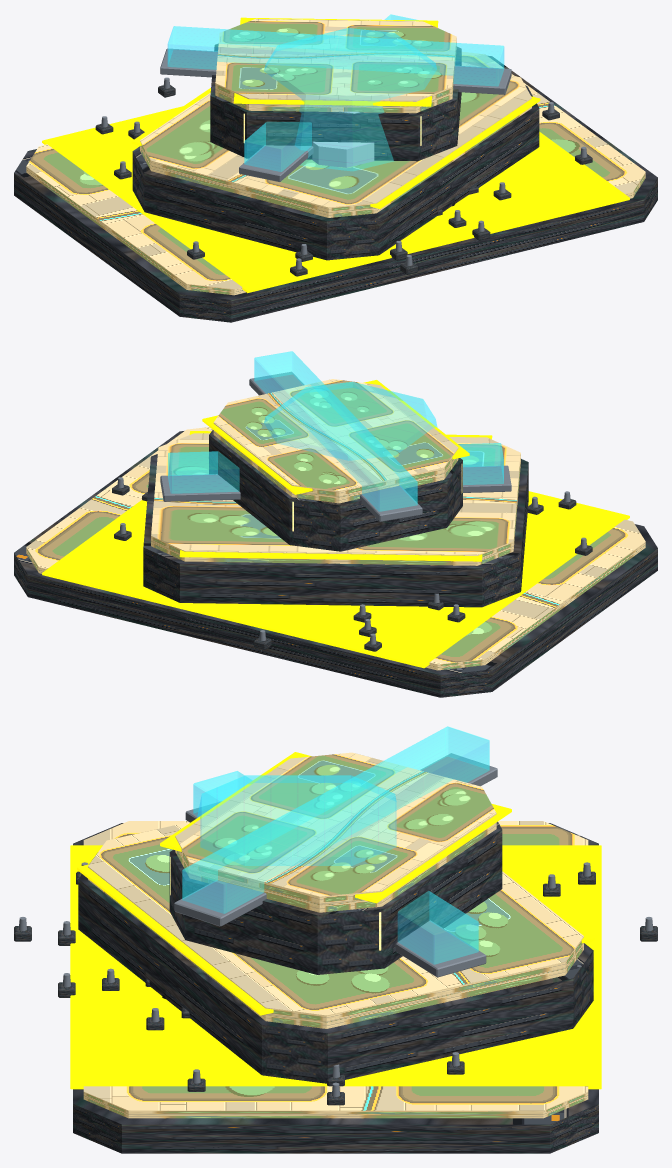
The model's file is interior_setpiece_05_r1_04.glb.
3 renders of one model, top to bottom at view 1: azimuth 30°, elevation 25°; view 2: azimuth 150°, elevation 25°; view 3: azimuth 270°, elevation 25°, orthographic. The views are drawn at different scales.
Parts seen in each view (by area): view 1: Setpiece05_C04_cliff_basalt, Setpiece05_C04_promenade_paving, Setpiece05_C04_glass_cyan, Setpiece05_C04_led_amber, Setpiece05_C04_steel_machined, Setpiece05_C04_aero_white; view 2: Setpiece05_C04_promenade_paving, Setpiece05_C04_cliff_basalt, Setpiece05_C04_led_amber, Setpiece05_C04_glass_cyan, Setpiece05_C04_steel_machined; view 3: Setpiece05_C04_promenade_paving, Setpiece05_C04_cliff_basalt, Setpiece05_C04_led_amber, Setpiece05_C04_glass_cyan, Setpiece05_C04_steel_machined.
Part boxes in pixels (box(x1,y1,x2,y2)): Setpiece05_C04_cliff_basalt: box(14, 44, 657, 322); Setpiece05_C04_promenade_paving: box(26, 18, 645, 295); Setpiece05_C04_glass_cyan: box(167, 14, 504, 171); Setpiece05_C04_led_amber: box(42, 17, 629, 293); Setpiece05_C04_steel_machined: box(101, 48, 586, 269); Setpiece05_C04_aero_white: box(312, 111, 374, 167); Setpiece05_C04_promenade_paving: box(26, 379, 645, 670); Setpiece05_C04_cliff_basalt: box(14, 430, 657, 697); Setpiece05_C04_led_amber: box(42, 380, 629, 668); Setpiece05_C04_glass_cyan: box(168, 351, 503, 511); Setpiece05_C04_steel_machined: box(117, 372, 586, 644); Setpiece05_C04_promenade_paving: box(83, 752, 588, 1118); Setpiece05_C04_cliff_basalt: box(14, 821, 657, 1153); Setpiece05_C04_led_amber: box(70, 752, 601, 1089); Setpiece05_C04_glass_cyan: box(182, 726, 489, 964); Setpiece05_C04_steel_machined: box(18, 753, 653, 1096).
Size of the model in its own units: 38 by 11.68 by 34.29.
Materials: 11 (11 with a texture image).
